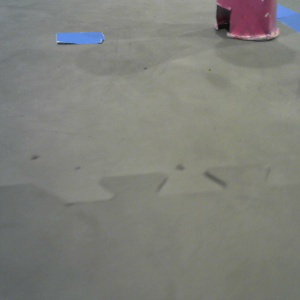right: (213, 1, 280, 40)
